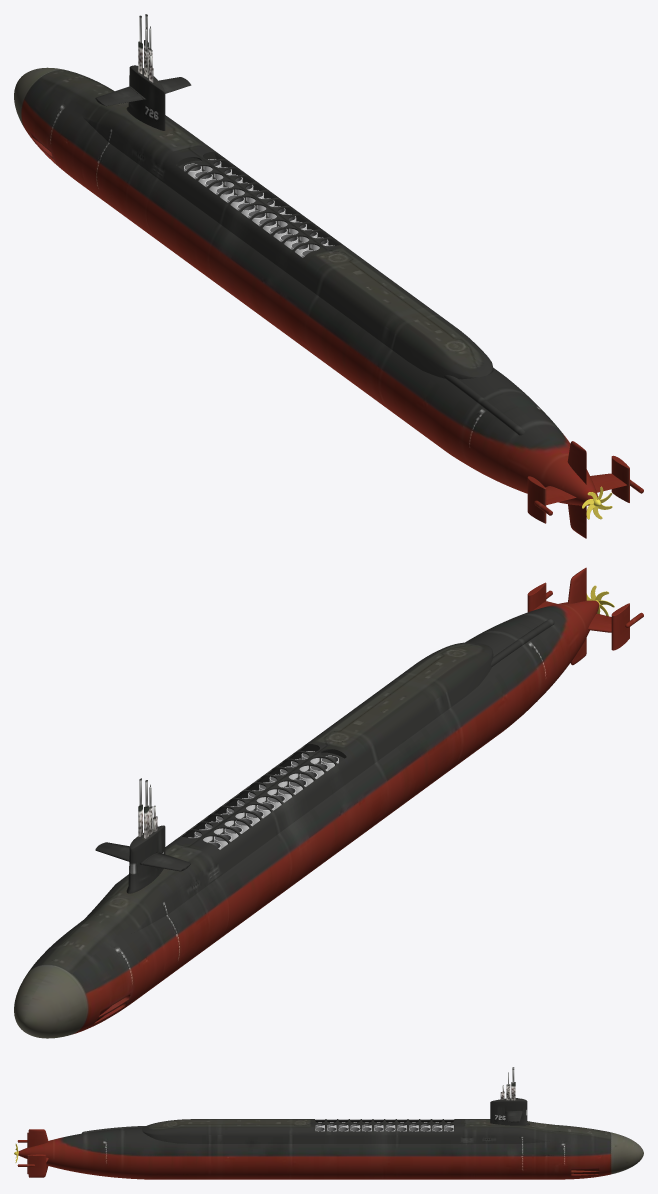
The model's file is ohio-class-submarine.glb.
The picture shows the model from 3 angles, top to bottom: view 1: azimuth 30°, elevation 25°; view 2: azimuth 150°, elevation 25°; view 3: azimuth 270°, elevation 25°; orthographic projection. The views are drawn at different scales.
Visible parts, largest first — view 1: Object_2, Object_7; view 2: Object_2, Object_7; view 3: Object_2, Object_7.
Boxes of the visible parts, bbox=[...] form: Object_2: bbox=[14, 14, 643, 538]; Object_7: bbox=[184, 159, 334, 257]; Object_2: bbox=[14, 567, 643, 1038]; Object_7: bbox=[188, 751, 338, 849]; Object_2: bbox=[17, 1067, 643, 1179]; Object_7: bbox=[315, 1122, 453, 1131].
Bounding box in the file's own units: 16.25 × 32.46 × 170.
Materials: 3 (2 with a texture image).
